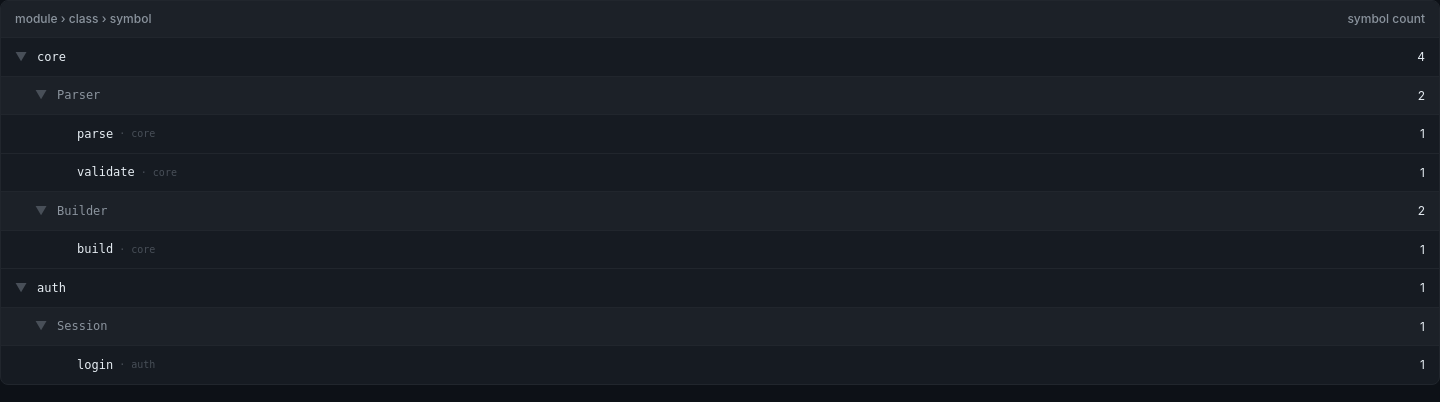
Scenario: PivotTable – 3-dim recursive rendering › collapsing core hides class and symbol rows
Expected: the text "Parser" is shown, [57,86,100,104]
Expected: the text "parse" is shown, [77,125,113,143]
Click the text "core": coordinates (51, 57) [37,48,66,66]
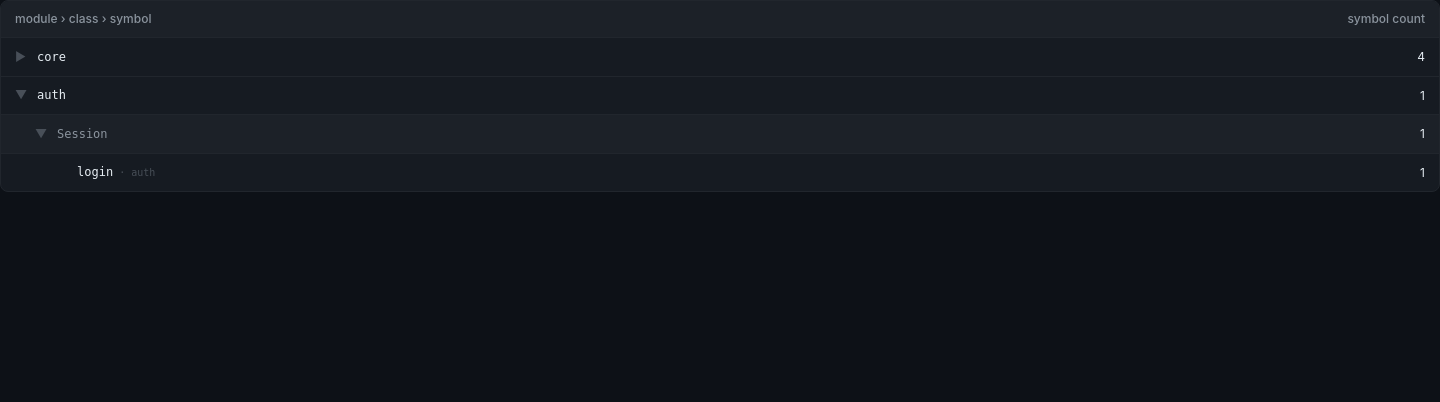
Expected: the text "Parser" is gone
Expected: the text "Parse" is gone
